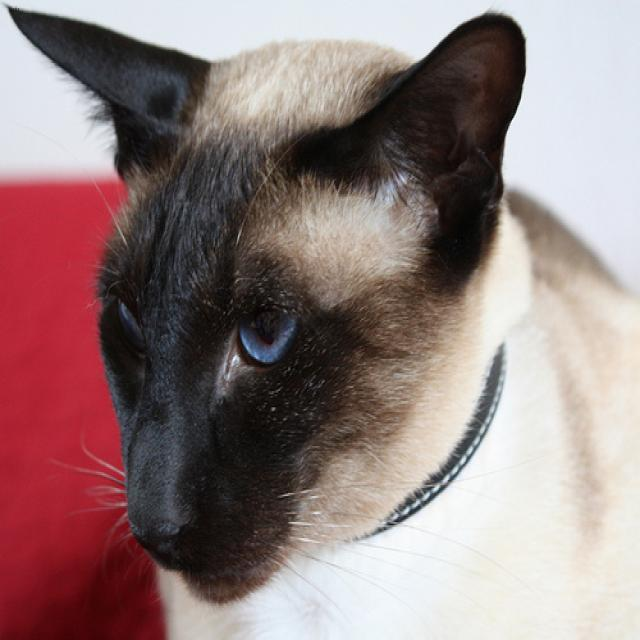Siamese: (10, 0, 530, 613)
